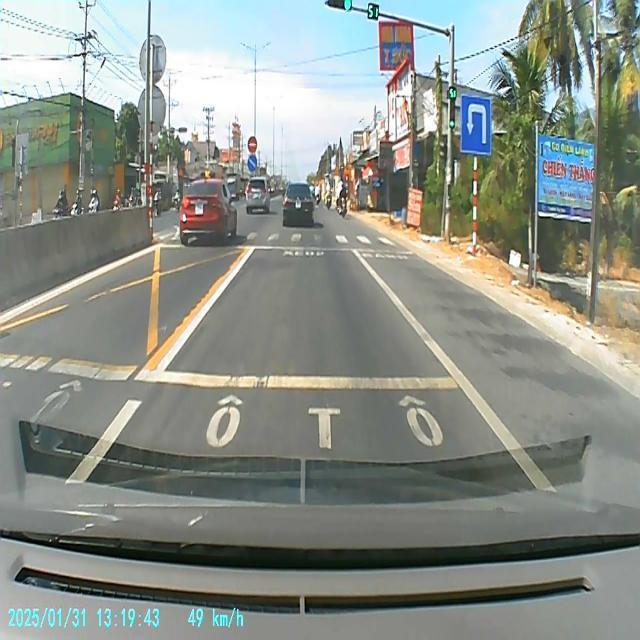102-cam-di-nguoc-chieu: (246, 137, 258, 153)
302a-huong-phai-di-vong-chuong-ngai-vat-1: (248, 156, 258, 172)
